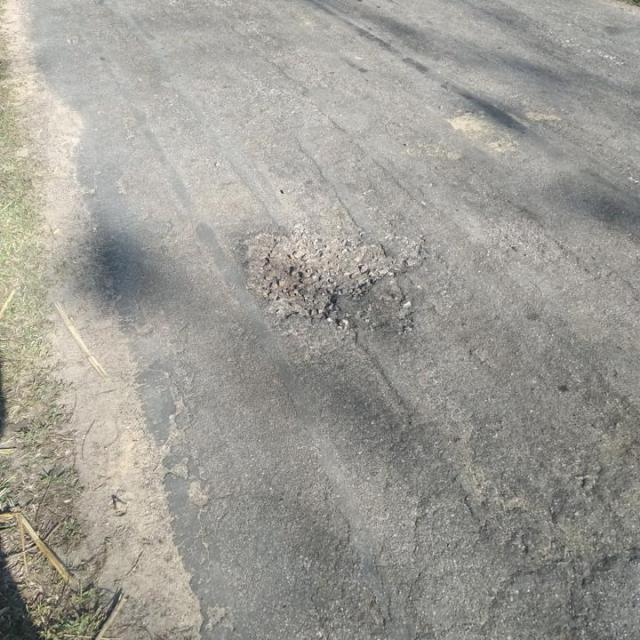Pothole: (235, 224, 426, 326)
